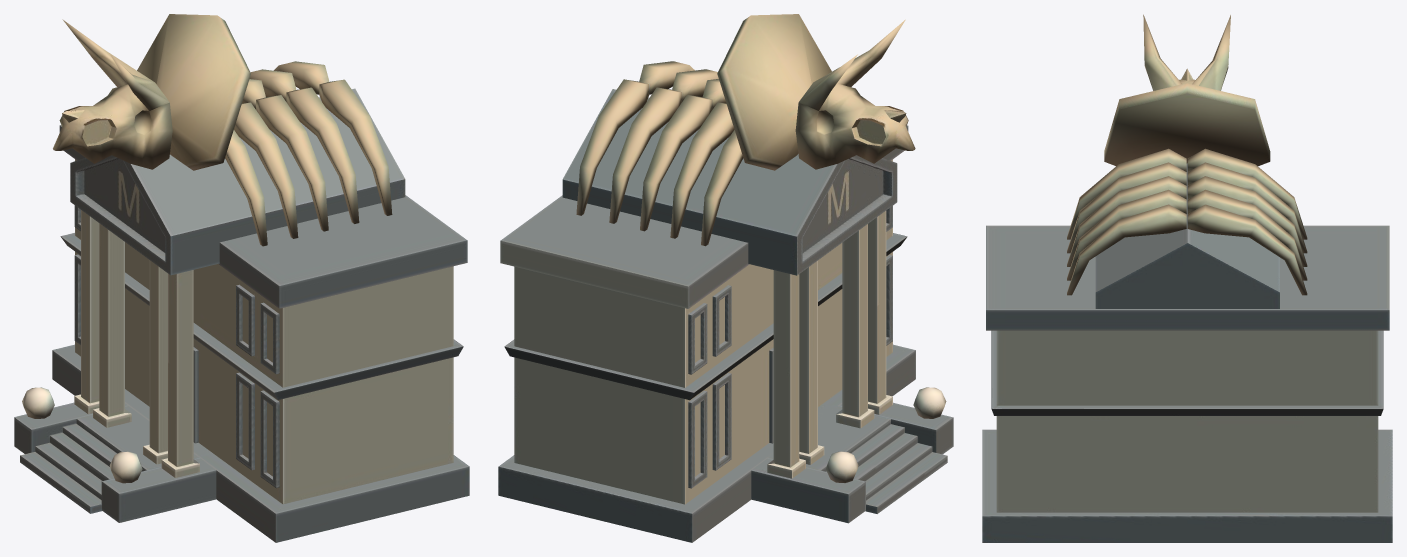
The model's file is Museum.glb.
3 views of the same model, side by side, from view 1: azimuth 30°, elevation 25°; view 2: azimuth 150°, elevation 25°; view 3: azimuth 270°, elevation 25° (orthographic). The views are drawn at different scales.
Parts seen in each view (by area): view 1: Plane008; view 2: Plane008; view 3: Plane008.
Part boxes in pixels (bbox=[...]): Plane008: bbox=[14, 14, 469, 542]; Plane008: bbox=[498, 14, 953, 542]; Plane008: bbox=[982, 14, 1392, 542].
Bounding box in the file's own units: 4.57 × 6.38 × 5.82.
Materials: 1 (1 with a texture image).
